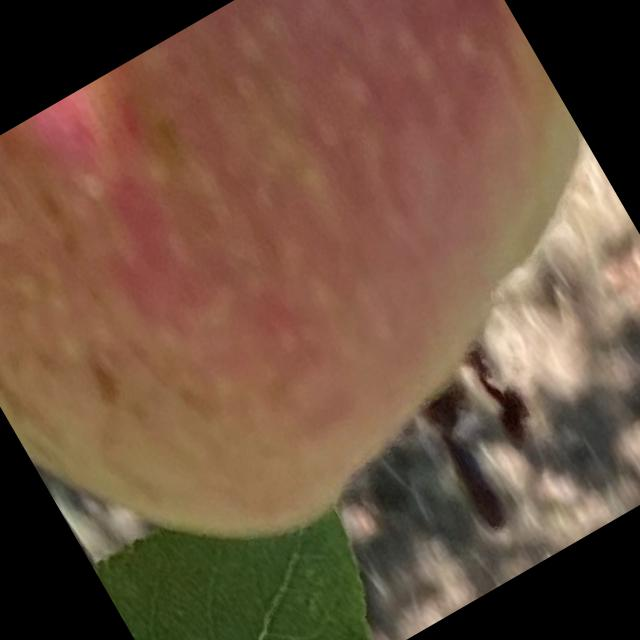Apples: (0, 0, 639, 630)
